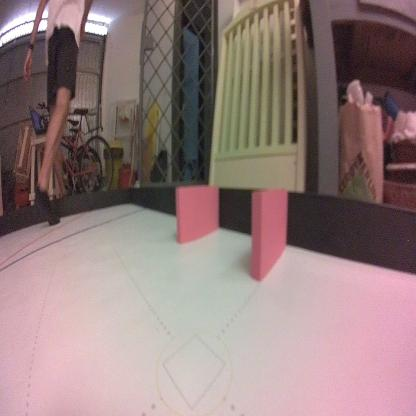magenta: (249, 187, 287, 282), (173, 185, 220, 248)
